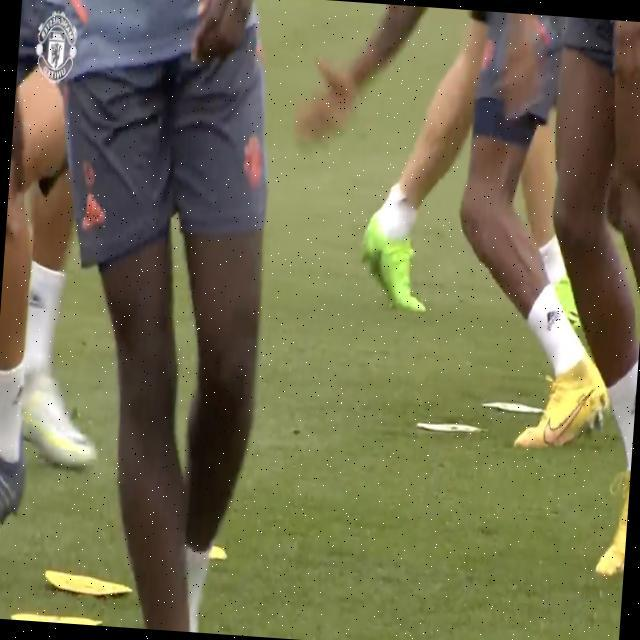Adidas: (81, 193, 106, 230), (544, 304, 563, 331)
